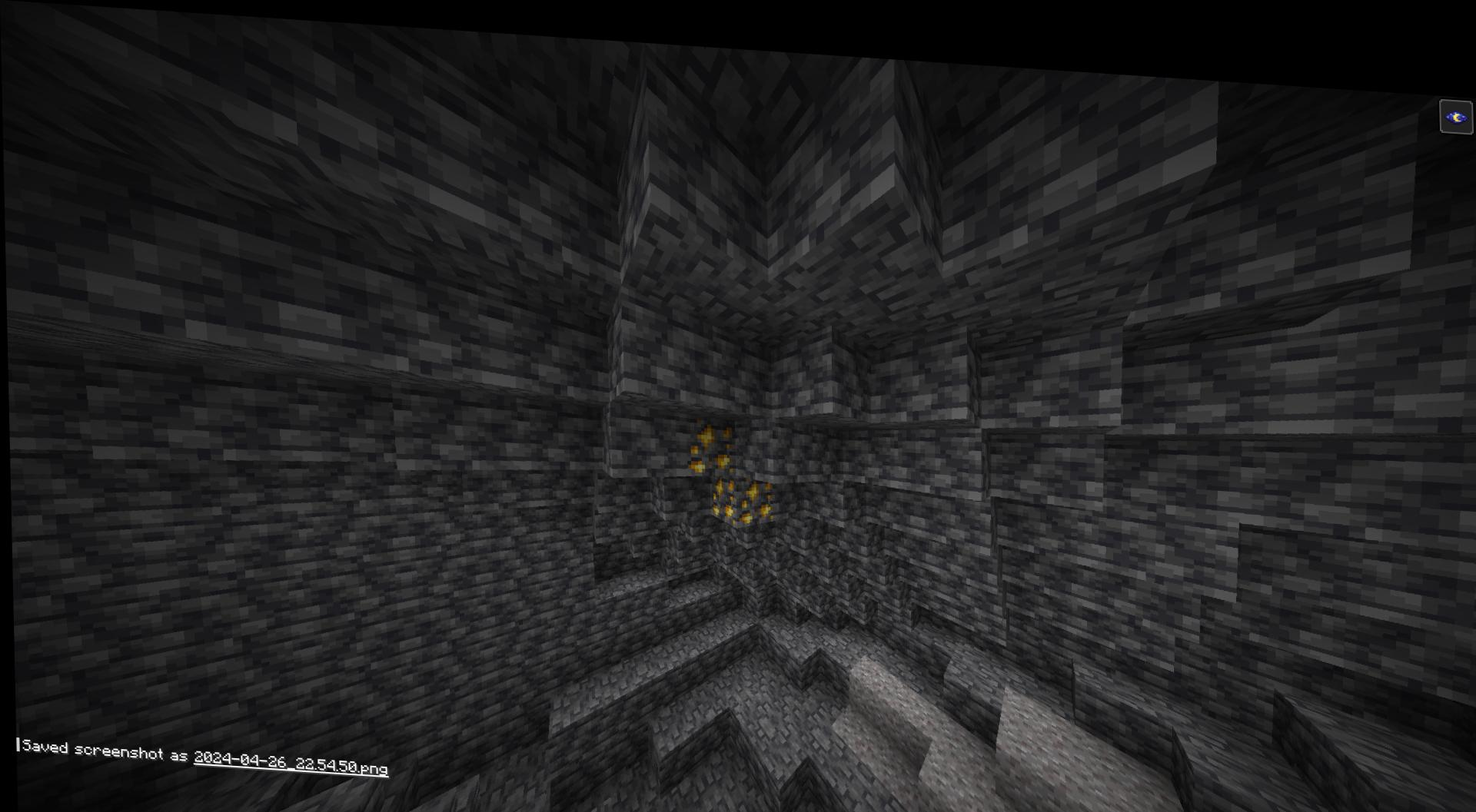gold ore: (680, 405, 732, 469), (738, 471, 776, 519), (712, 469, 738, 518)
